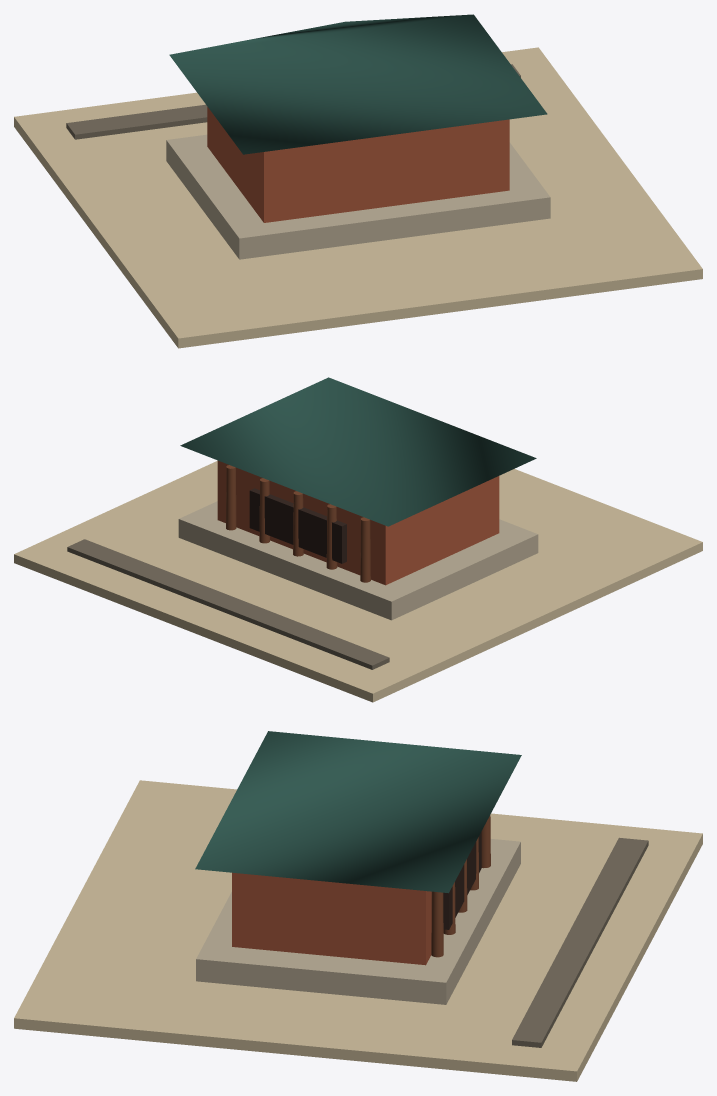
The model's file is model-medium.glb.
3 views of the same model, one above another, from view 1: azimuth 30°, elevation 25°; view 2: azimuth 150°, elevation 25°; view 3: azimuth 270°, elevation 25° (orthographic). The views are drawn at different scales.
Parts seen in each view (by area): view 1: context_site_plinth, sweeping_tiled_roof, main_hall_wall_volume, raised_ceremonial_platform, front_scale_strip; view 2: context_site_plinth, sweeping_tiled_roof, raised_ceremonial_platform, main_hall_wall_volume, front_scale_strip, central_shadow_door, front_column_1, front_column_5, front_column_3; view 3: context_site_plinth, sweeping_tiled_roof, raised_ceremonial_platform, main_hall_wall_volume, front_scale_strip, central_shadow_door, front_column_5.
Boxes of the visible parts, x1,y1,x2,y2 form: context_site_plinth: (14,47,702,348); sweeping_tiled_roof: (169,14,547,154); main_hall_wall_volume: (207,107,509,222); raised_ceremonial_platform: (166,134,550,259); front_scale_strip: (66,64,520,139); context_site_plinth: (14,461,702,702); sweeping_tiled_roof: (180,377,536,526); raised_ceremonial_platform: (178,501,538,620); main_hall_wall_volume: (217,460,499,585); front_scale_strip: (67,539,389,669); central_shadow_door: (249,488,346,563); front_column_1: (360,517,370,582); front_column_5: (226,465,236,530); front_column_3: (293,491,303,556); context_site_plinth: (14,780,702,1081); sweeping_tiled_roof: (195,731,521,893); raised_ceremonial_platform: (196,839,520,1004); main_hall_wall_volume: (232,872,431,965); front_scale_strip: (512,837,648,1047); central_shadow_door: (443,831,481,929); front_column_5: (431,891,443,957).
Bounding box in the file's own units: 9.55 × 2.62 × 9.55.
